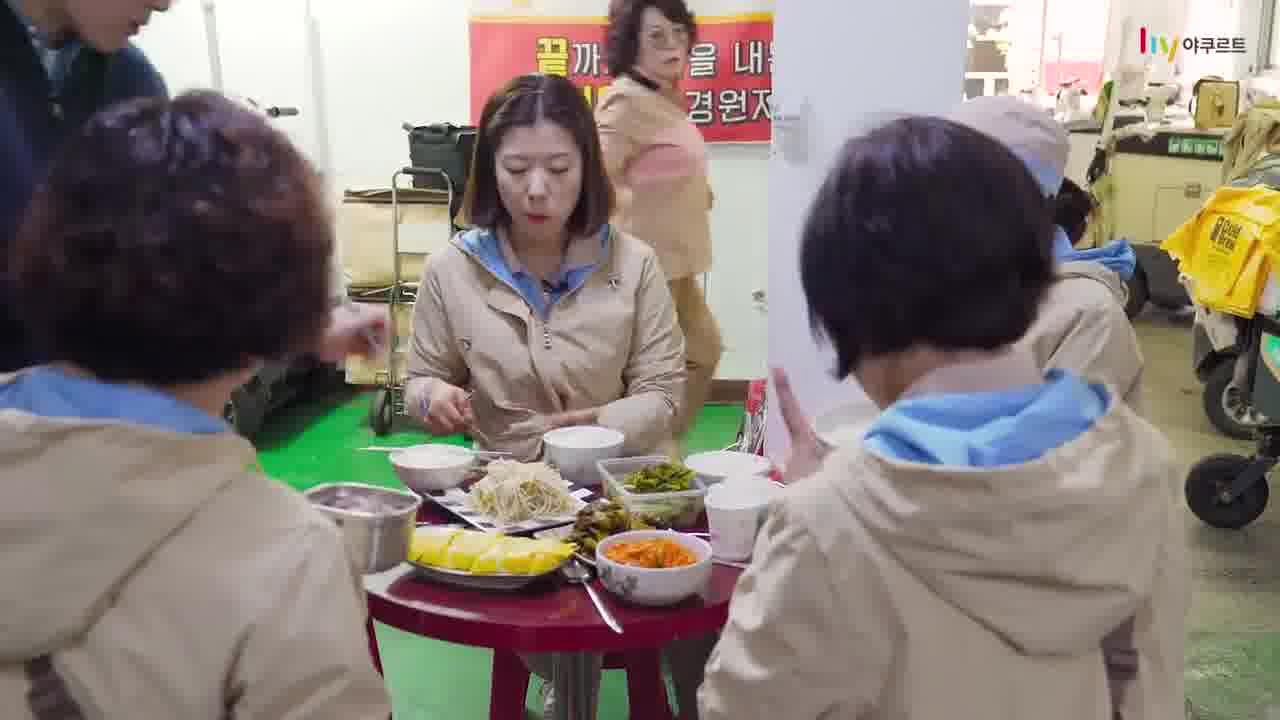Yakurut: (694, 136, 1162, 720), (1, 135, 426, 720), (435, 89, 694, 438), (595, 3, 744, 417)
